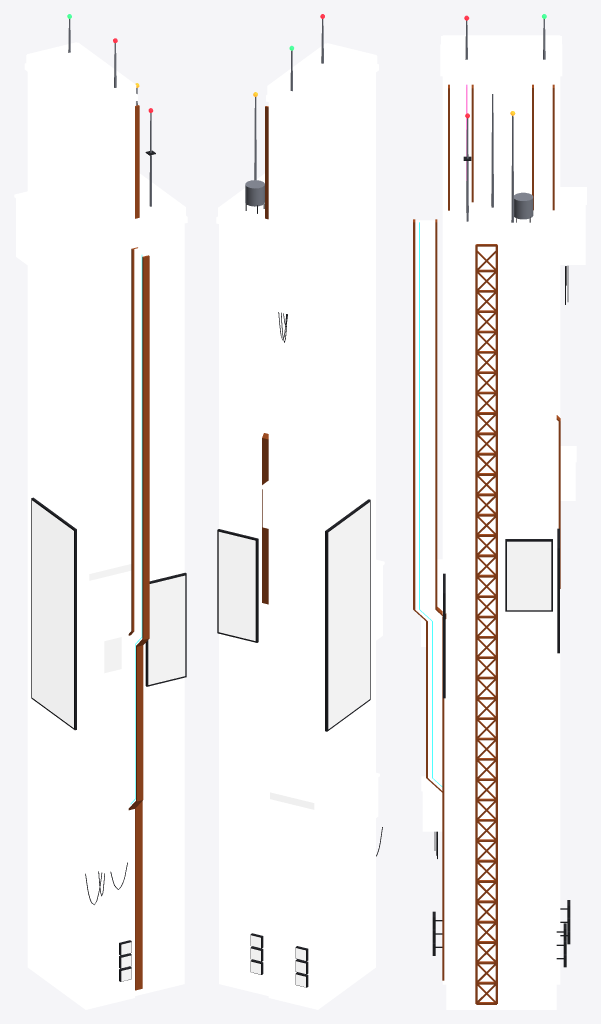
File: k_tower_a.glb
The picture shows the model from 3 angles, left to right: view 1: azimuth 30°, elevation 25°; view 2: azimuth 150°, elevation 25°; view 3: azimuth 270°, elevation 25°; orthographic projection.
Visible parts, largest first — view 1: kit_dark, kit_mid, screen_atlas, kit_grey, steel_orange, metal_dark, neon_cyan, metal_light; view 2: kit_dark, kit_mid, screen_atlas, kit_grey, metal_dark, steel_orange, metal_light; view 3: kit_mid, kit_grey, steel_orange, kit_dark, screen_atlas, metal_dark, metal_light, neon_cyan.
Part boxes in pixels (bbox=[...]): kit_dark: bbox=[27, 72, 134, 1009]; kit_mid: bbox=[16, 50, 184, 995]; screen_atlas: bbox=[32, 500, 185, 981]; kit_grey: bbox=[14, 42, 187, 833]; steel_orange: bbox=[128, 105, 149, 990]; metal_dark: bbox=[31, 150, 186, 981]; neon_cyan: bbox=[130, 255, 142, 804]; metal_light: bbox=[68, 19, 151, 206]; kit_dark: bbox=[268, 73, 375, 1009]; kit_mid: bbox=[219, 70, 382, 995]; screen_atlas: bbox=[218, 502, 369, 987]; kit_grey: bbox=[216, 43, 384, 778]; metal_dark: bbox=[217, 204, 382, 987]; steel_orange: bbox=[262, 106, 268, 604]; metal_light: bbox=[245, 19, 323, 206]; kit_mid: bbox=[421, 42, 585, 1009]; kit_grey: bbox=[415, 35, 586, 979]; steel_orange: bbox=[413, 84, 560, 1004]; kit_dark: bbox=[442, 76, 560, 984]; screen_atlas: bbox=[507, 541, 551, 610]; metal_dark: bbox=[432, 156, 570, 967]; metal_light: bbox=[465, 19, 545, 222]; neon_cyan: bbox=[419, 222, 442, 786].
Size of the model in its own units: 15.17 by 127 by 20.64.
